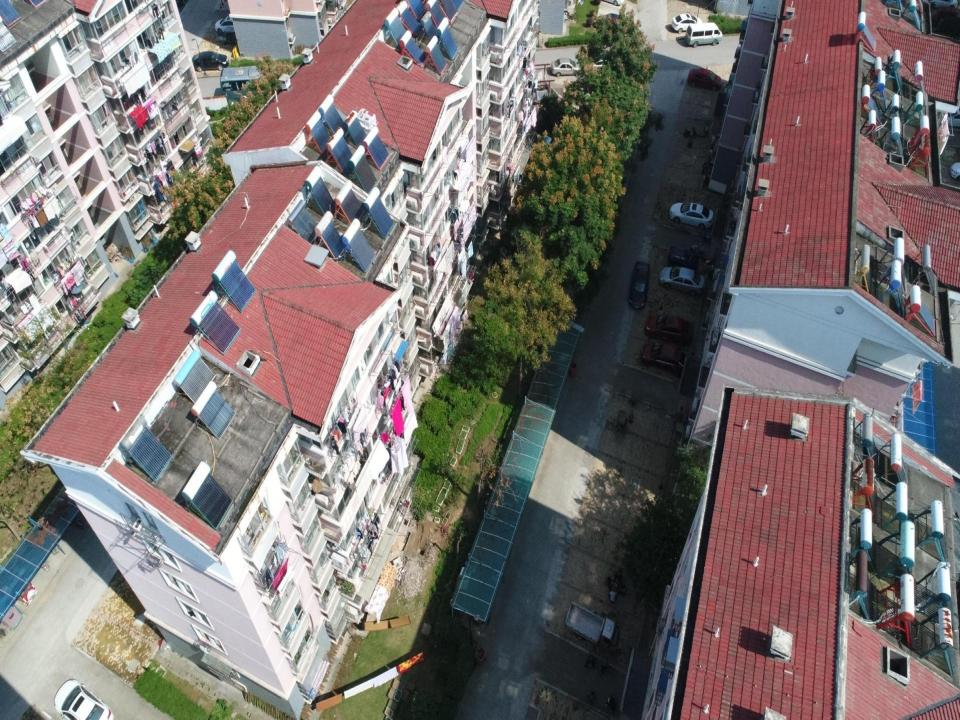car: (658, 262, 705, 296), (641, 340, 685, 376), (645, 313, 692, 345), (669, 200, 713, 229), (628, 260, 650, 310), (666, 241, 699, 269), (688, 63, 721, 90), (192, 53, 226, 69), (670, 14, 700, 30), (214, 16, 234, 36)
van: (58, 680, 118, 720), (218, 65, 271, 93), (684, 22, 724, 49)
